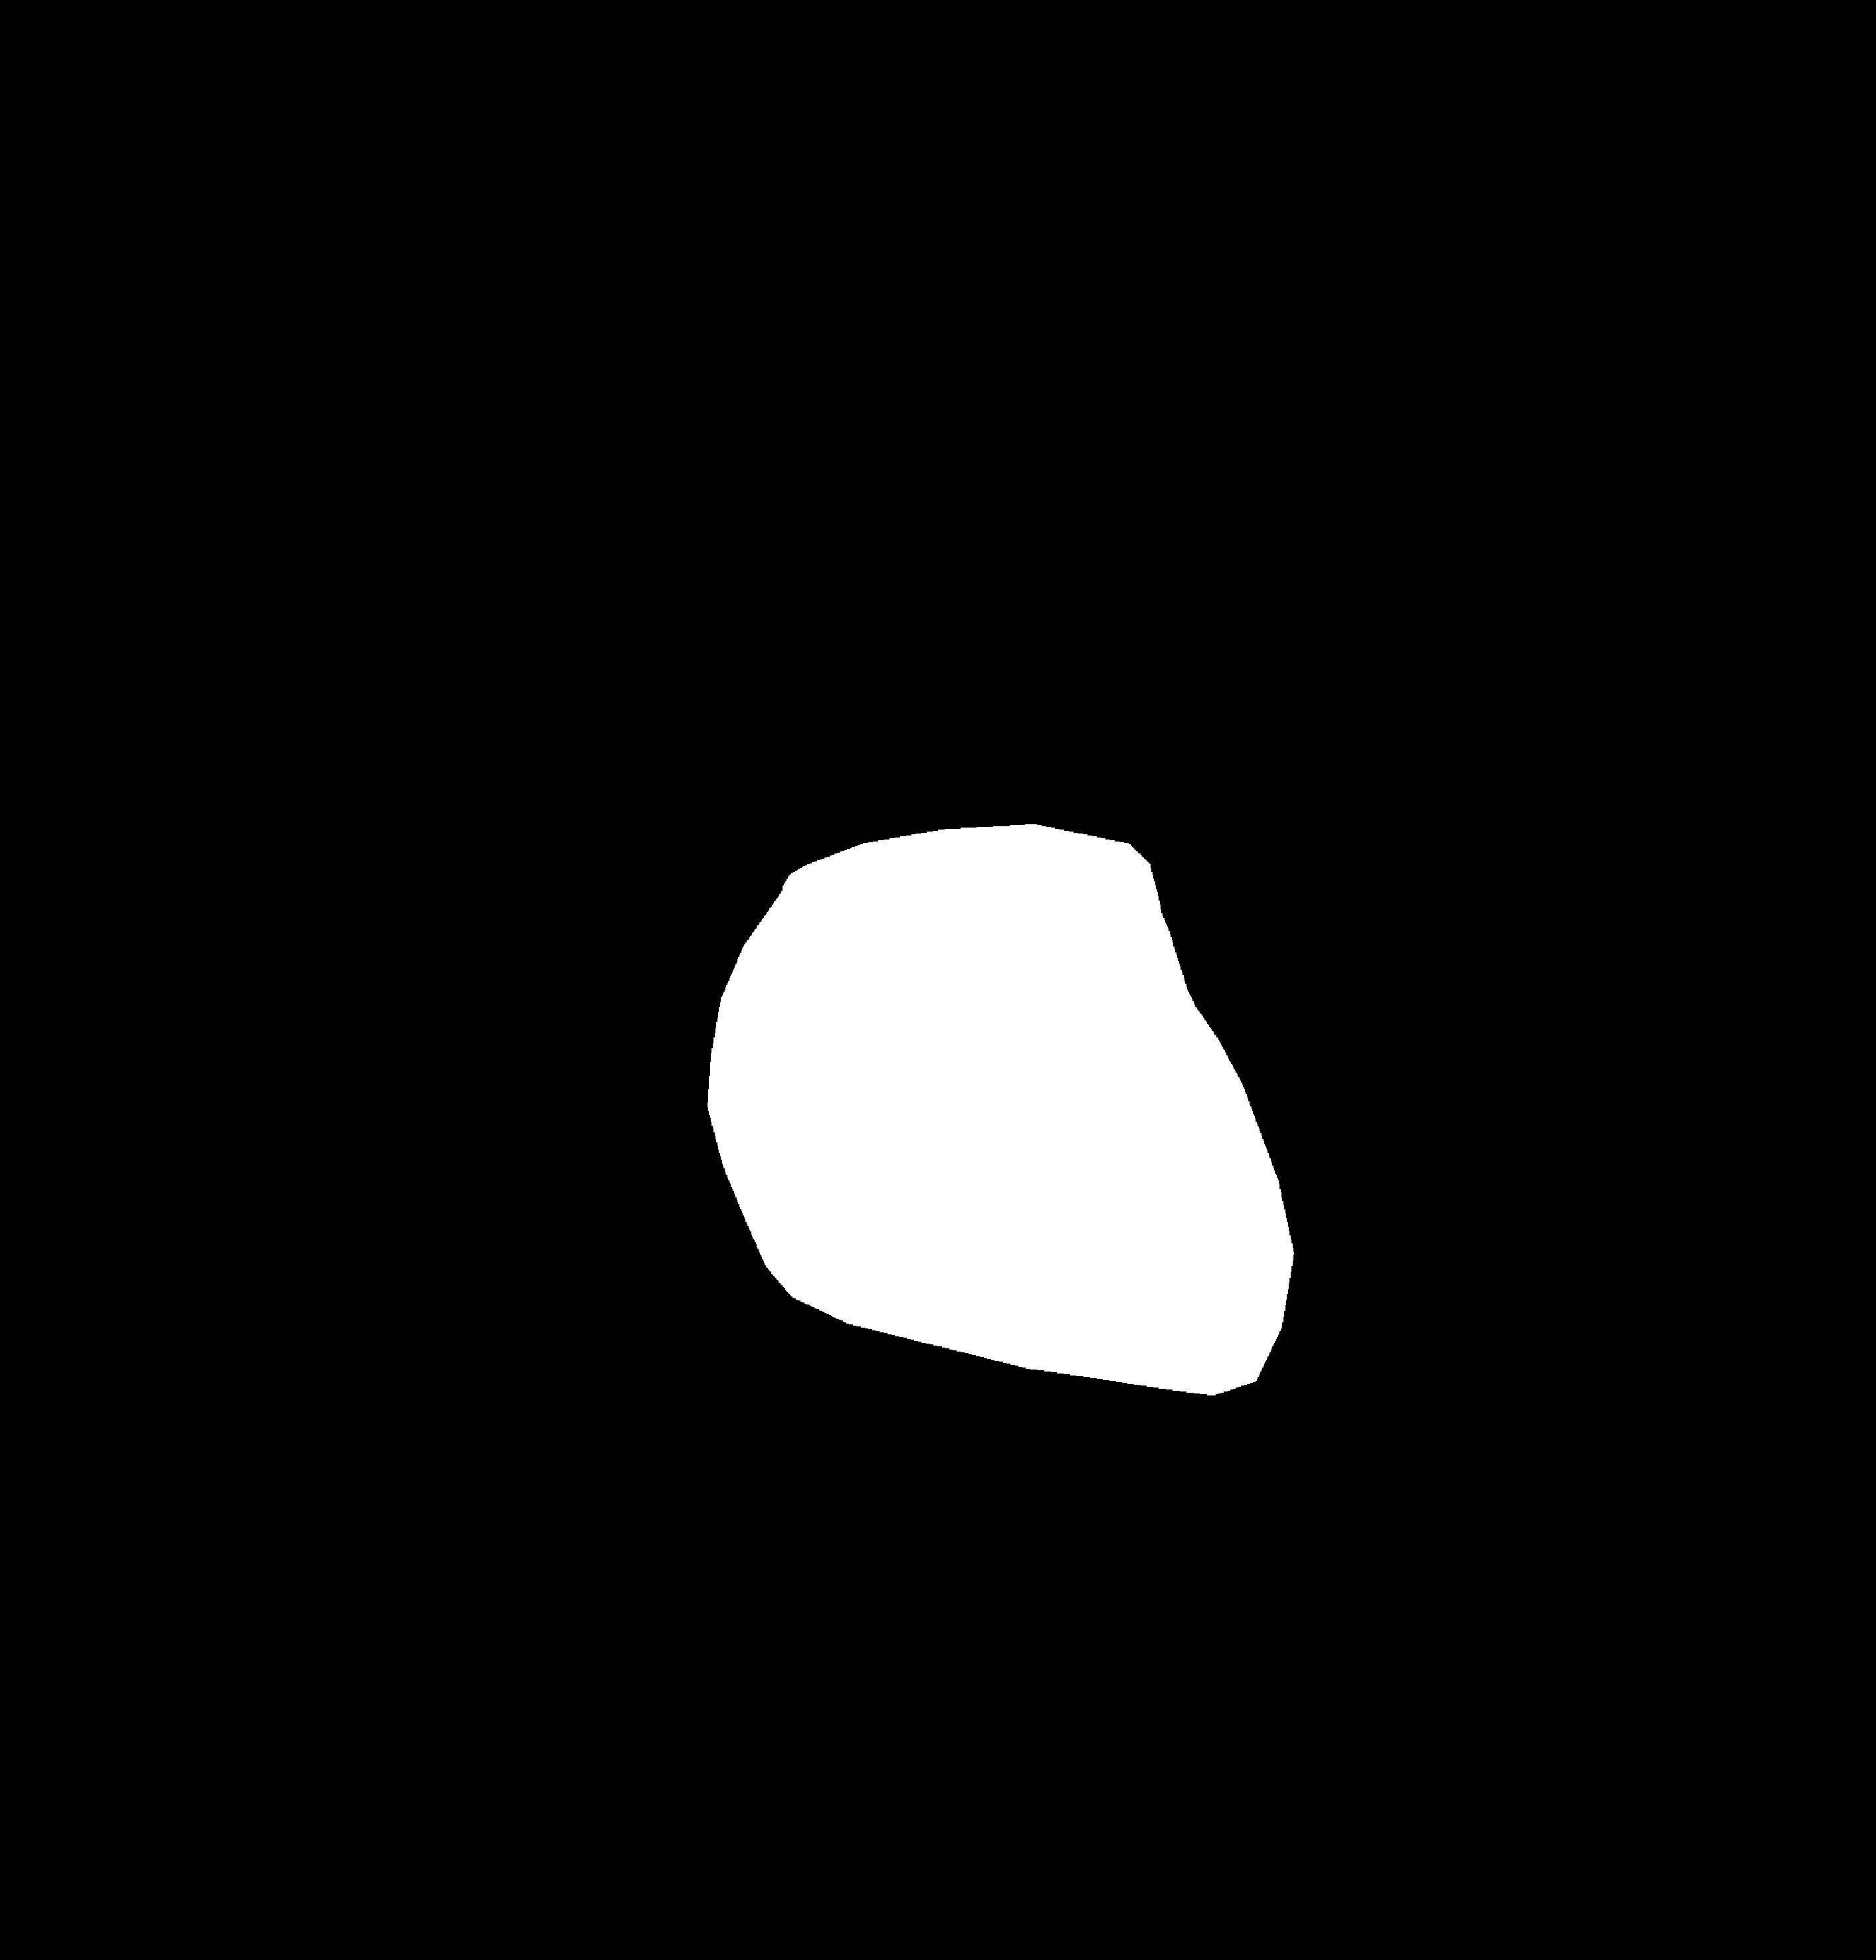heart: (705, 885, 1288, 1395)
left_lung: (245, 114, 880, 1654)
right_lung: (1029, 159, 1655, 1654)
